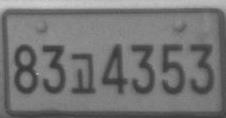3: (189, 43, 215, 95), (130, 43, 155, 94), (42, 44, 66, 94)
4: (101, 43, 128, 94)
5: (160, 42, 186, 95)
8: (13, 43, 38, 94)
고: (70, 52, 96, 93)
